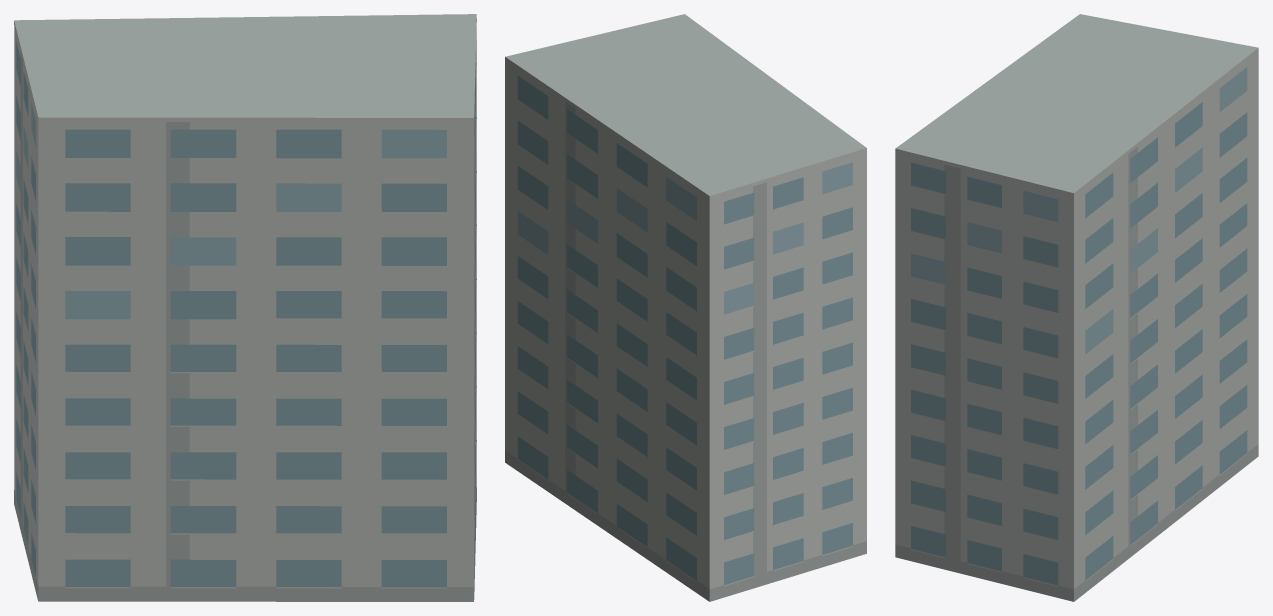
File: residential-885cba99-56bd-4942-9941-e96b34a7a0e5.glb
The picture shows the model from 3 angles, left to right: view 1: azimuth 30°, elevation 25°; view 2: azimuth 150°, elevation 25°; view 3: azimuth 270°, elevation 25°; orthographic projection. The views are drawn at different scales.
Parts seen in each view (by area): view 1: residential-885cba99-56bd-4942-9941-e96b34a7a0e5.tmp; view 2: residential-885cba99-56bd-4942-9941-e96b34a7a0e5.tmp; view 3: residential-885cba99-56bd-4942-9941-e96b34a7a0e5.tmp.
Boxes of the visible parts, x1=… form: residential-885cba99-56bd-4942-9941-e96b34a7a0e5.tmp: x1=14, y1=14, x2=476, y2=601; residential-885cba99-56bd-4942-9941-e96b34a7a0e5.tmp: x1=505, y1=14, x2=866, y2=601; residential-885cba99-56bd-4942-9941-e96b34a7a0e5.tmp: x1=895, y1=14, x2=1258, y2=601.
Bounding box in the file's own units: 25.4 × 27 × 21.76.
